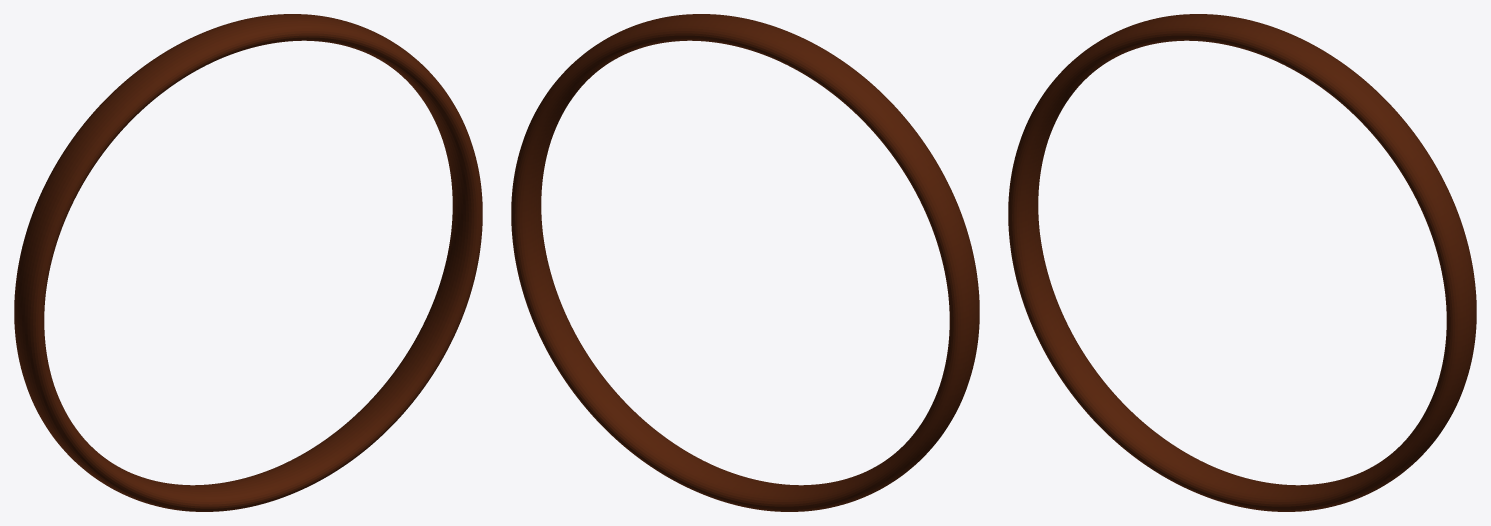
File: ring.obj
3 renders of one model, left to right at view 1: azimuth 30°, elevation 25°; view 2: azimuth 150°, elevation 25°; view 3: azimuth 330°, elevation 25°, orthographic.
Parts seen in each view (by area): view 1: Circle; view 2: Circle; view 3: Circle.
Part boxes in pixels (x1,y1,x2,y2): Circle: (14, 14, 482, 511); Circle: (511, 14, 979, 511); Circle: (1008, 14, 1476, 511).
Bounding box in the file's own units: 2.18 × 2.18 × 0.1833.
